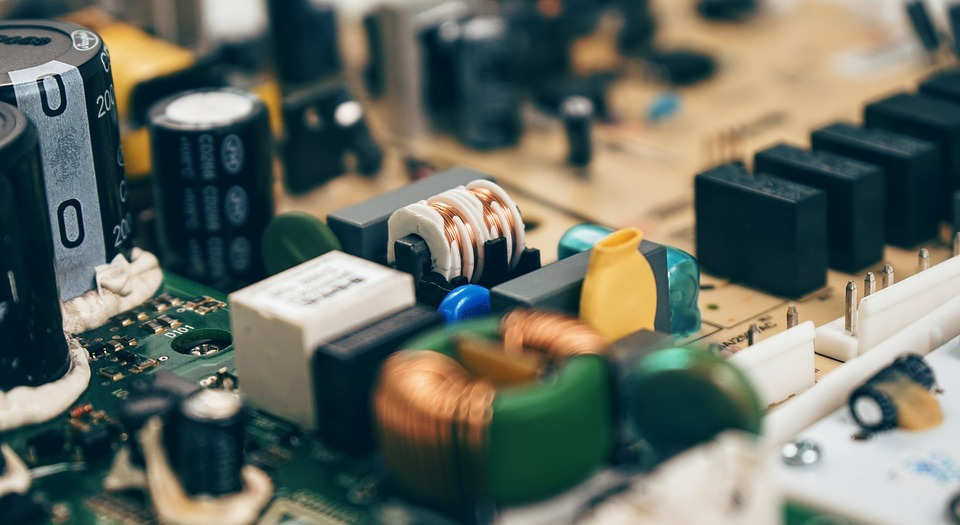capacitor: (129, 71, 299, 292), (7, 7, 138, 261), (171, 371, 266, 510), (555, 69, 614, 190), (333, 89, 389, 184)
